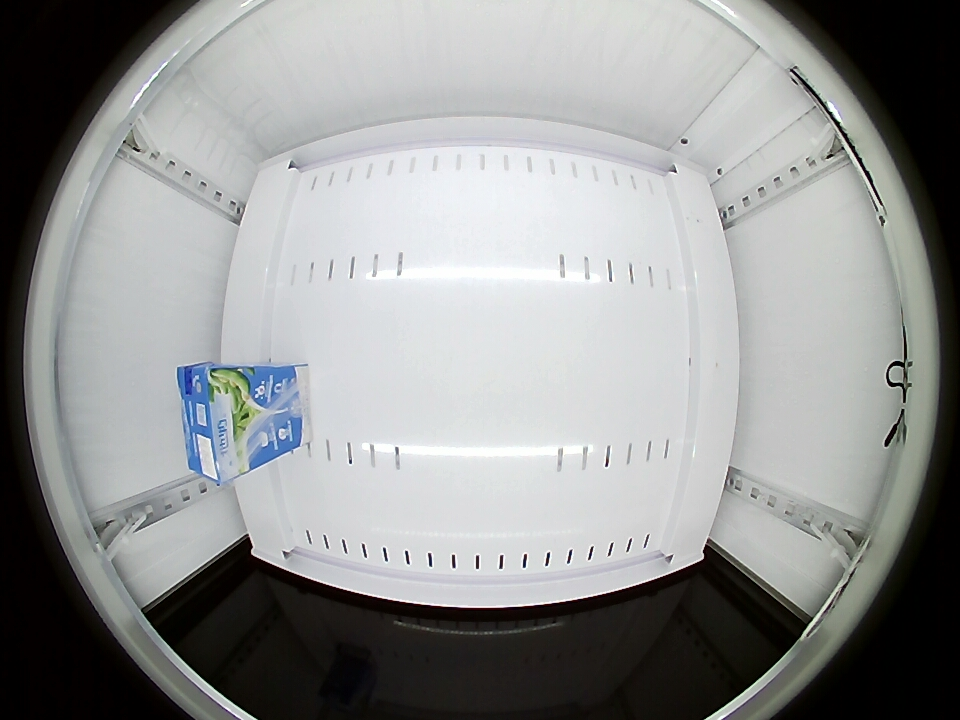weitanai: (178, 363, 257, 484)
